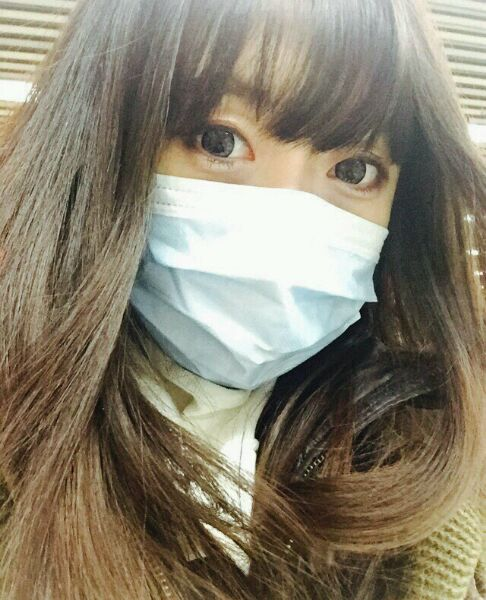face_mask: (144, 0, 407, 391)
